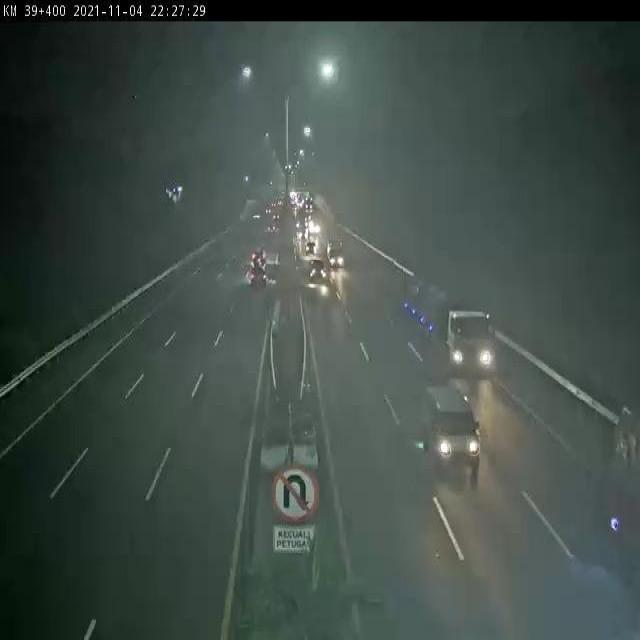car: (425, 384, 479, 468), (248, 267, 268, 292), (249, 245, 267, 272), (307, 257, 324, 279)
truck-s-: (327, 240, 345, 269)
truck-xl-: (403, 280, 492, 377)
